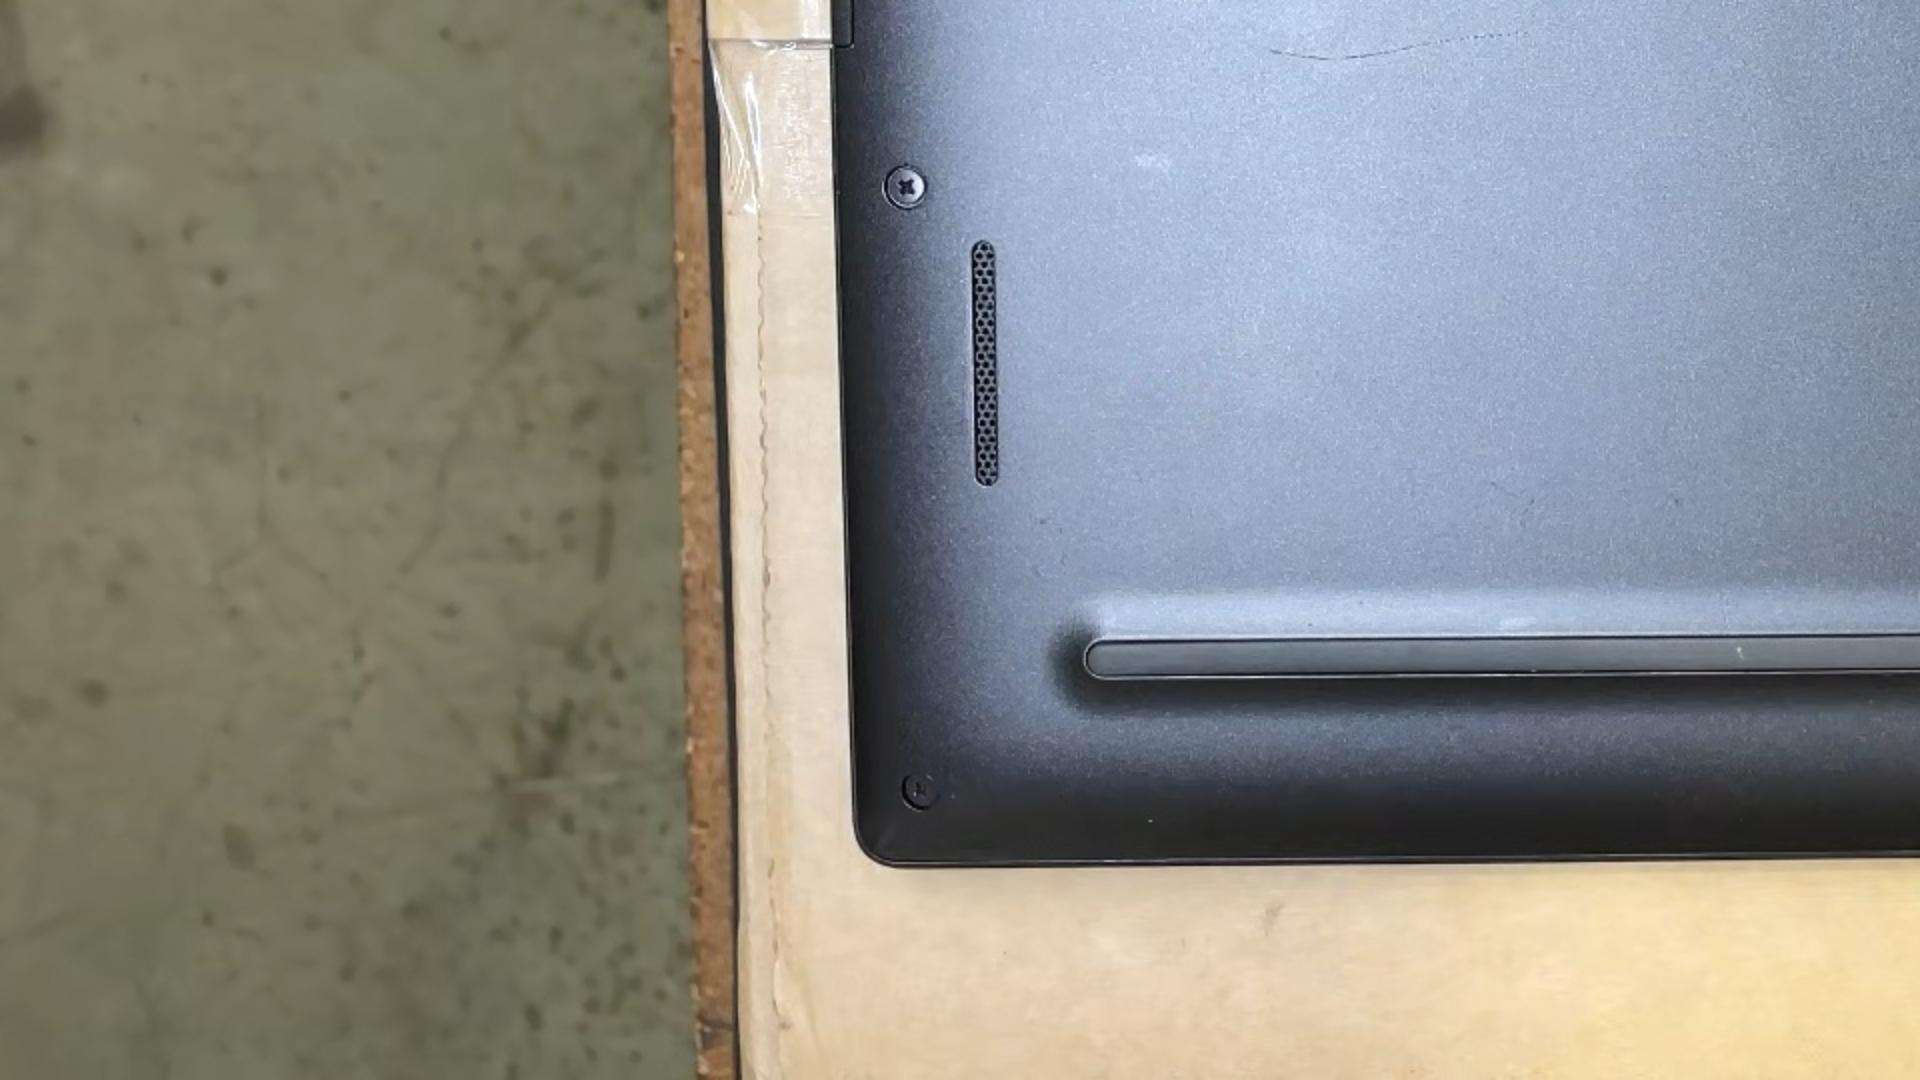scratches: (1267, 26, 1530, 62), (1735, 645, 1746, 663)
